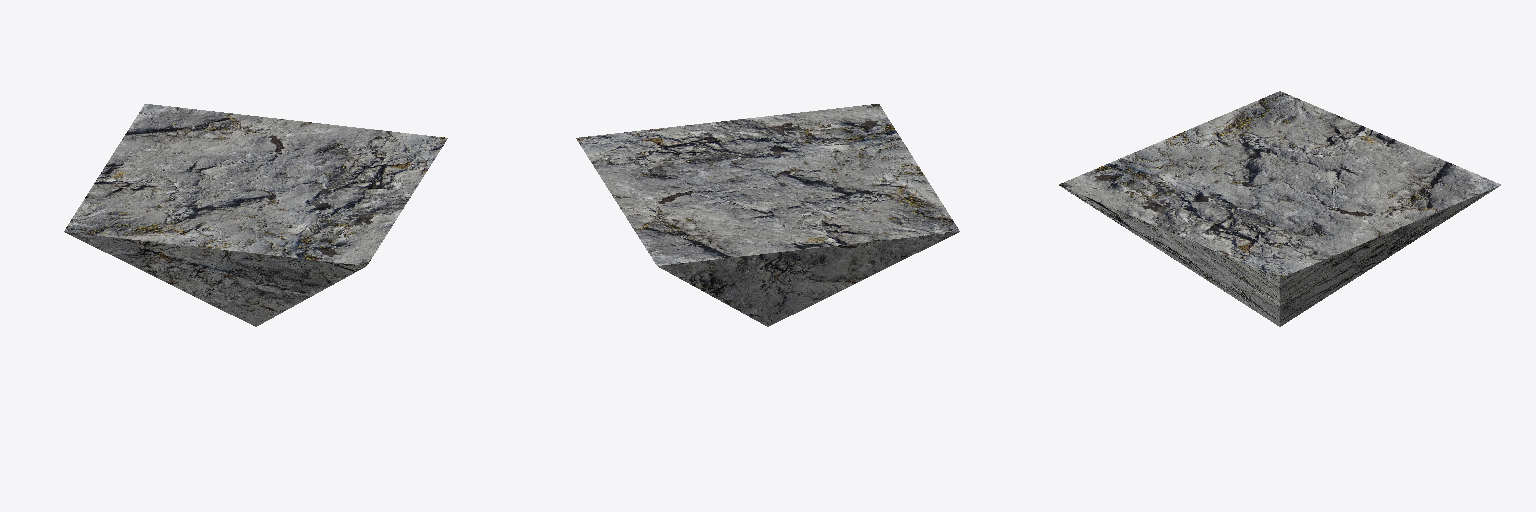
3 views of the same model, side by side, from view 1: azimuth 30°, elevation 25°; view 2: azimuth 150°, elevation 25°; view 3: azimuth 270°, elevation 25° (orthographic).
Bounding box in the file's own units: 5.3 × 1.88 × 5.3.
Materials: 1 (1 with a texture image).